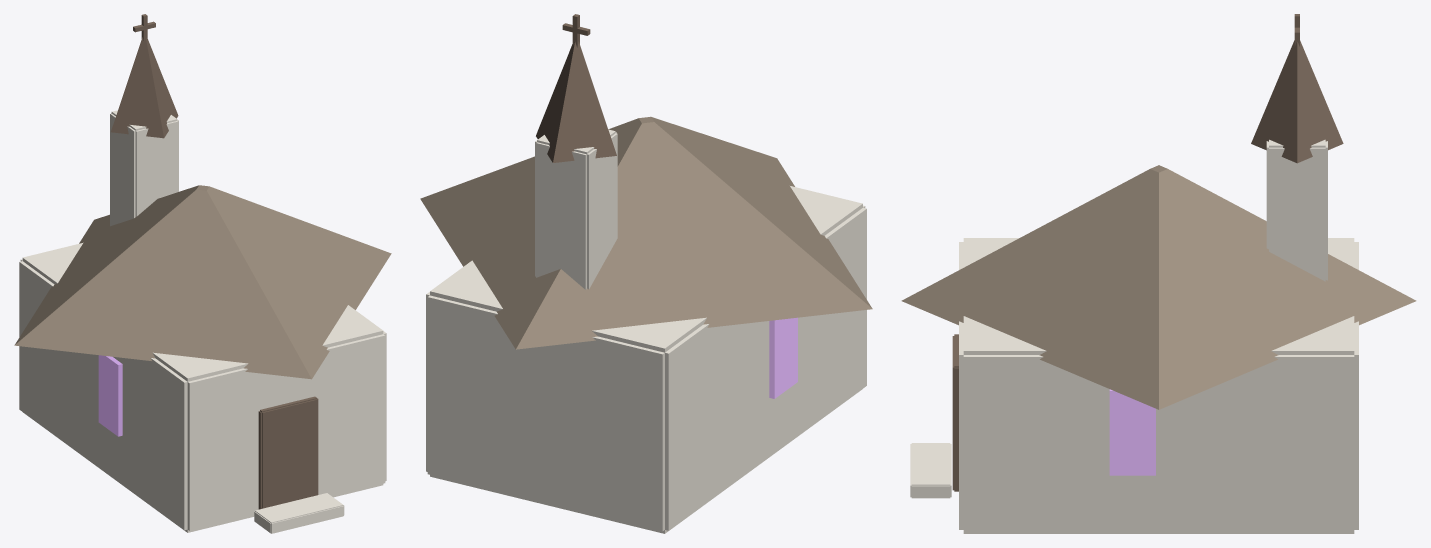
The model's file is chapel.glb.
3 views of the same model, side by side, from view 1: azimuth 30°, elevation 25°; view 2: azimuth 150°, elevation 25°; view 3: azimuth 270°, elevation 25° (orthographic). The views are drawn at different scales.
Parts seen in each view (by area): view 1: Nave, Roof, Door, Steeple, Spire, Steps, Window_R; view 2: Nave, Roof, Steeple, Spire, Window_R; view 3: Nave, Roof, Steeple, Spire, Window_L, Steps, Door.
Boxes of the visible parts, <box> form: Nave: <box>19,242,386,532</box>; Roof: <box>14,185,391,379</box>; Door: <box>258,396,318,509</box>; Steeple: <box>110,110,178,226</box>; Spire: <box>111,37,178,138</box>; Steps: <box>254,493,344,533</box>; Window_R: <box>98,355,122,436</box>; Nave: <box>426,186,866,533</box>; Roof: <box>420,116,872,349</box>; Steeple: <box>535,129,617,289</box>; Spire: <box>536,41,616,162</box>; Window_R: <box>769,317,797,398</box>; Nave: <box>959,238,1358,533</box>; Roof: <box>901,165,1416,409</box>; Steeple: <box>1266,139,1327,281</box>; Spire: <box>1251,40,1343,163</box>; Window_L: <box>1109,389,1155,475</box>; Steps: <box>910,443,951,498</box>; Door: <box>952,334,958,491</box>.
Size of the model in its own units: 6.9 by 6.83 by 6.9.
